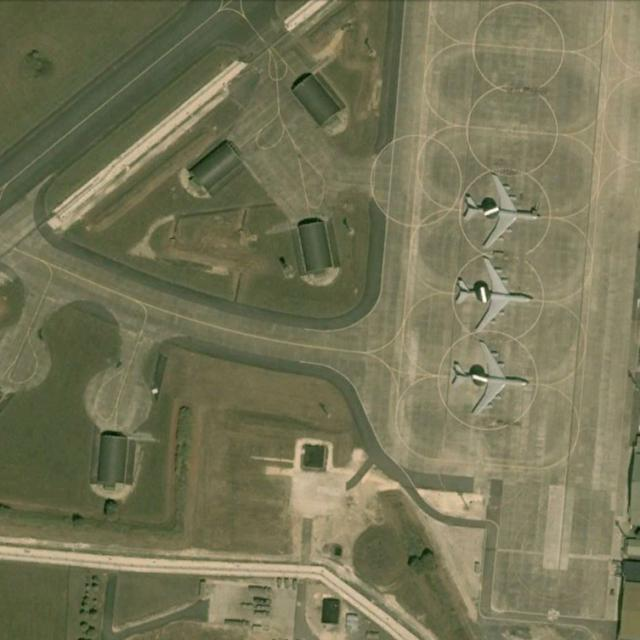fighter jet: (448, 339, 529, 419), (458, 171, 542, 246), (451, 255, 531, 332)
